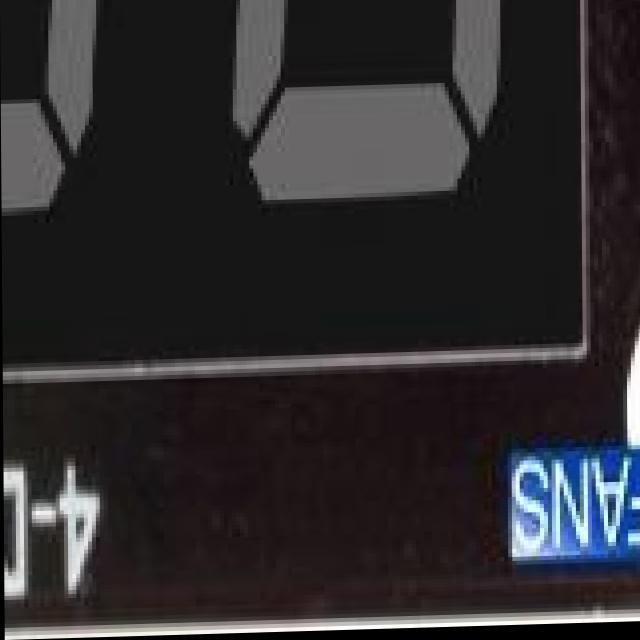display: (0, 0, 598, 404)
